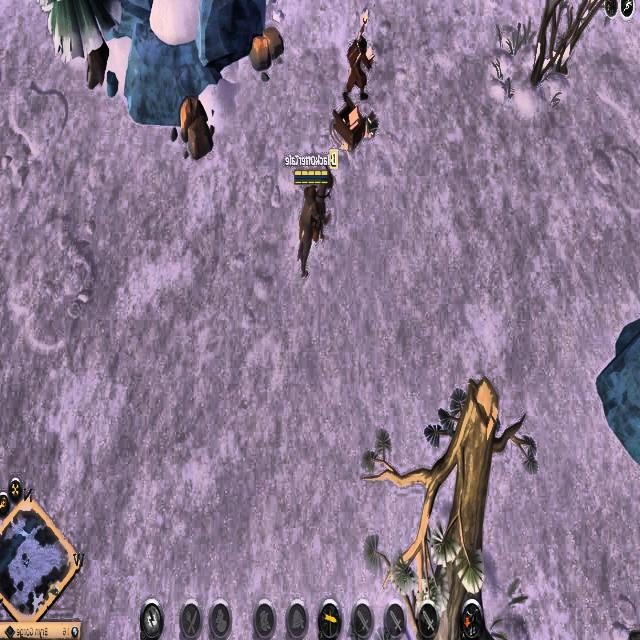limestone: (176, 90, 217, 162), (248, 19, 286, 74)
